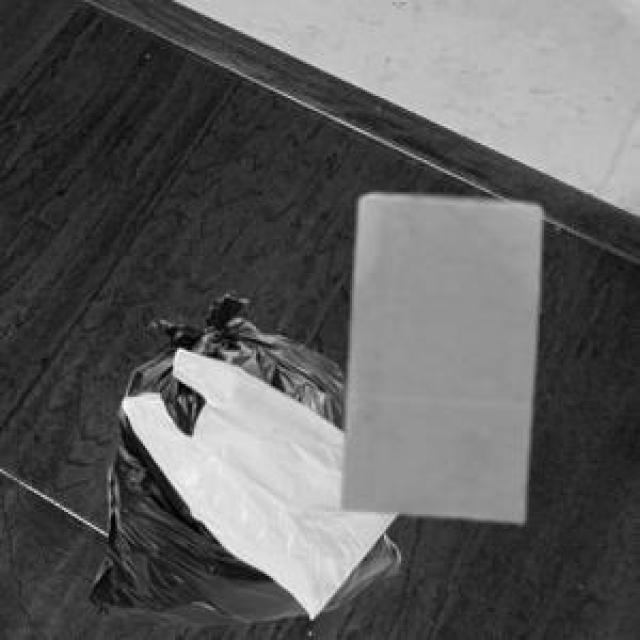miscellaneous trash: (85, 286, 395, 623)
paper: (337, 190, 538, 518)
